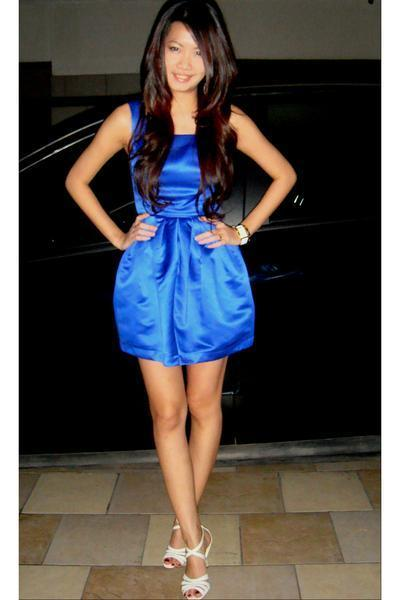shoe: (164, 541, 210, 599)
skirt: (113, 103, 254, 366)
